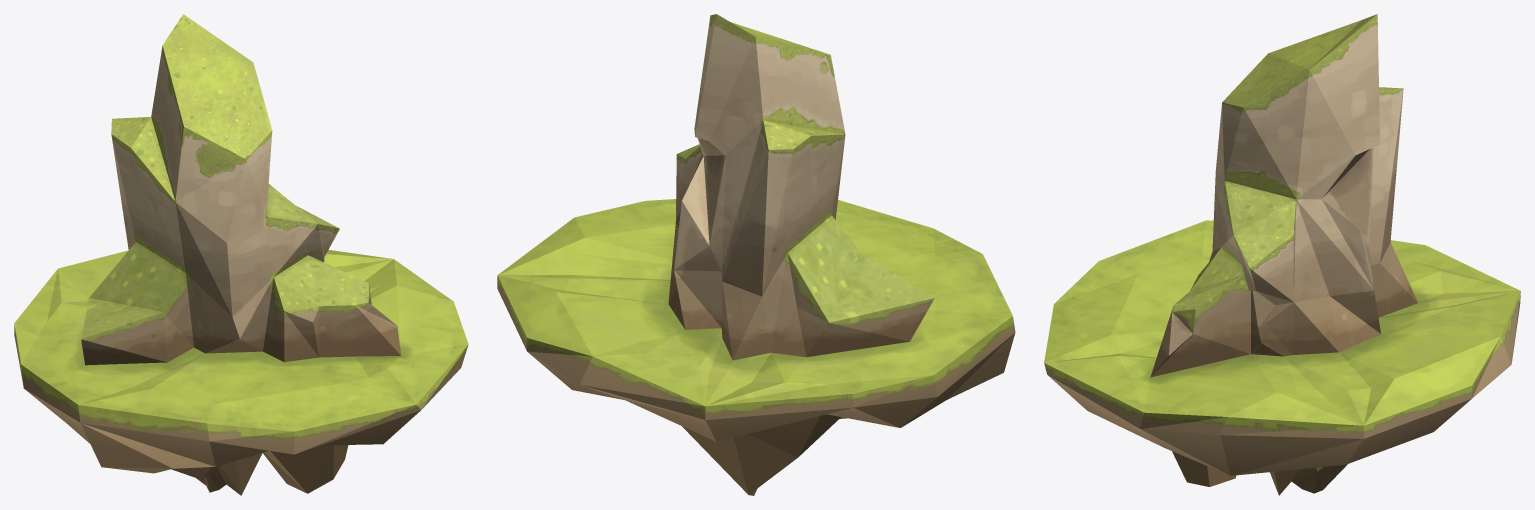
The model's file is r_rock.fbx.
3 renders of one model, left to right at view 1: azimuth 30°, elevation 25°; view 2: azimuth 150°, elevation 25°; view 3: azimuth 270°, elevation 25°, orthographic. The views are drawn at different scales.
Visible parts, largest first — view 1: Rock01_000; view 2: Rock01_000; view 3: Rock01_000.
Boxes of the visible parts, <box> form: Rock01_000: <box>14,14,468,495</box>; Rock01_000: <box>497,14,1015,495</box>; Rock01_000: <box>1044,14,1520,495</box>.
Size of the model in its own units: 404 by 451 by 404.
1 material, 1 textured.
